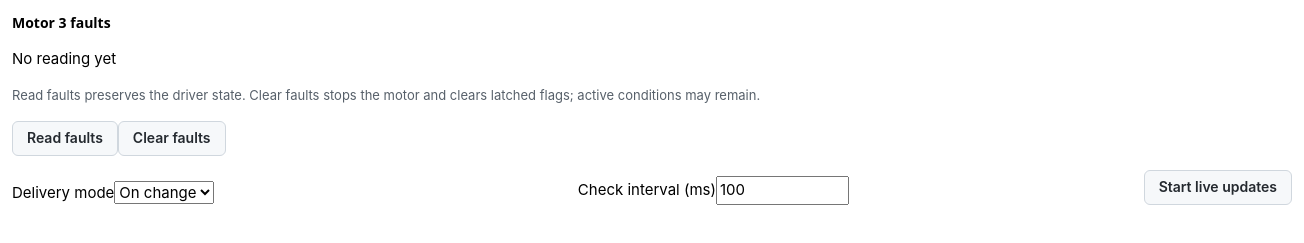
Test case: clears the selected motor and preserves an active fault returned by firmware
Click the button "Clear faults" at point(172, 138), box [118,121,226,156]
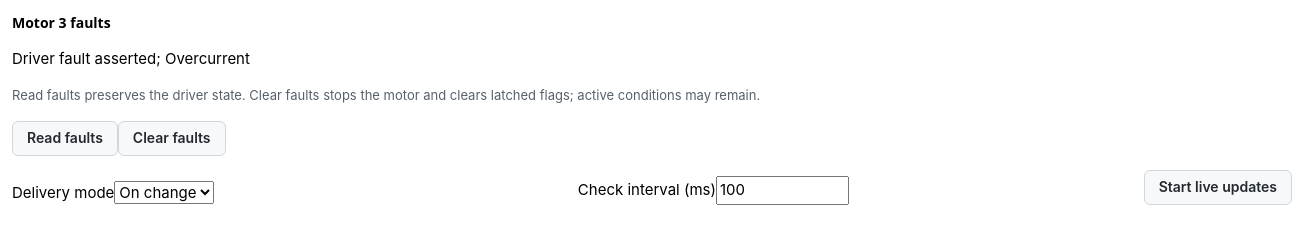
Expected: the text named "Latest motor 3 faults" shows "Overcurrent", [12,49,250,68]
Click the button "Clear faults" at point(172, 138), box [118,121,226,156]
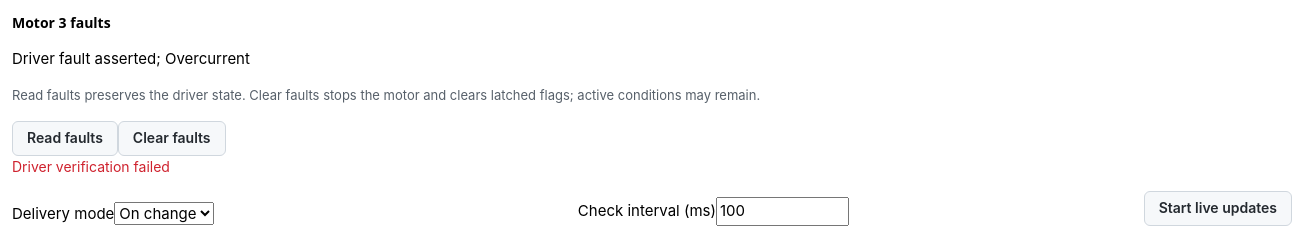
Expected: the message reads "Driver verification failed", [12,158,170,175]
